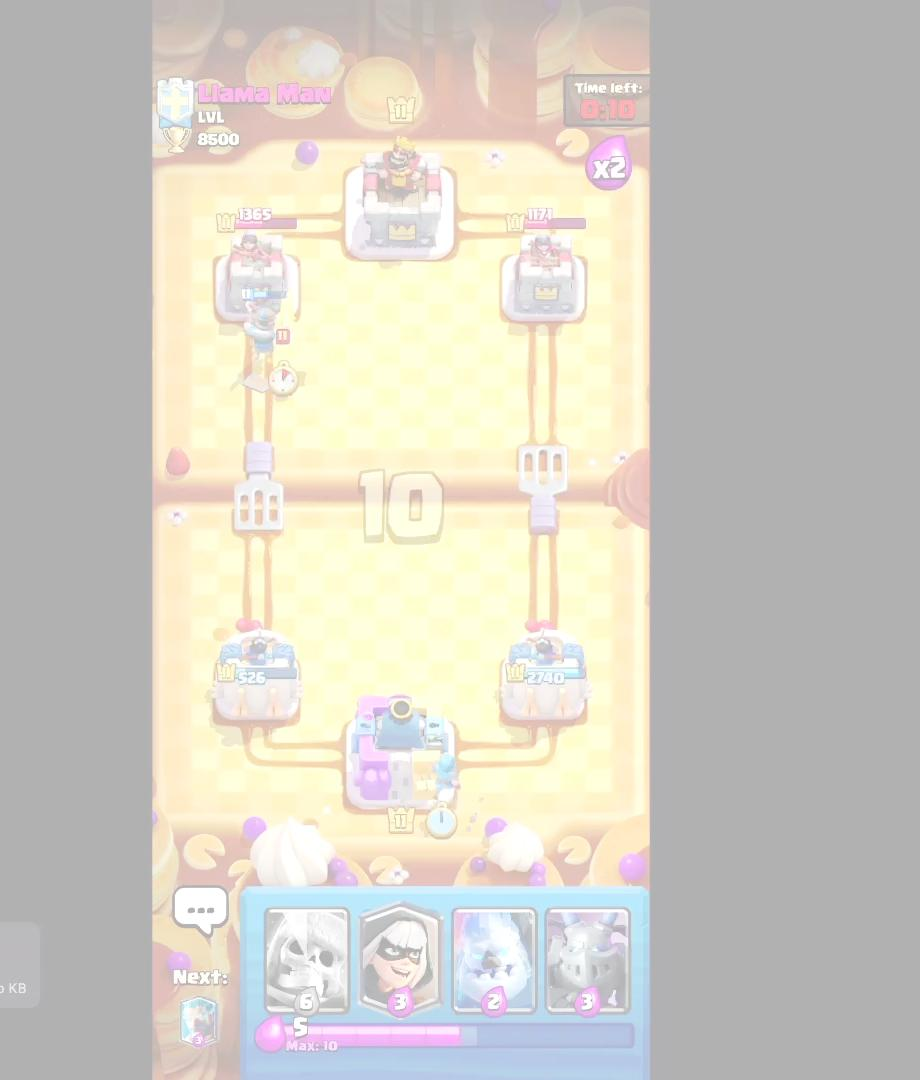Valkyrie: (276, 297, 305, 398)
